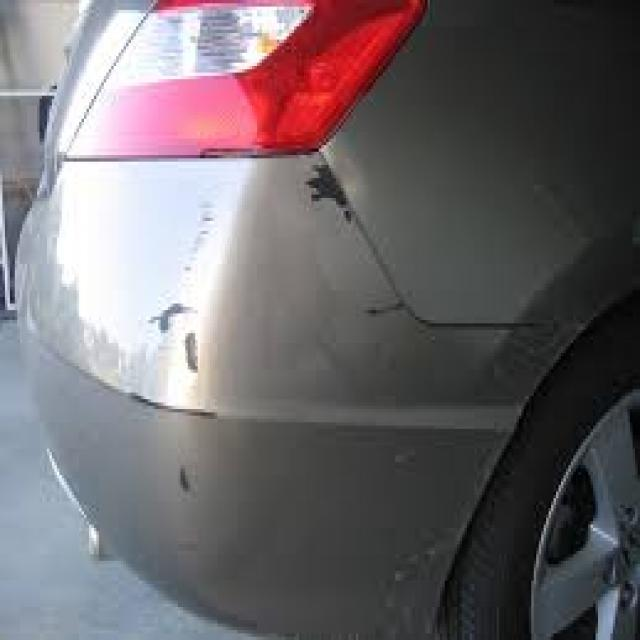minor: (146, 172, 258, 438), (297, 156, 362, 229)
